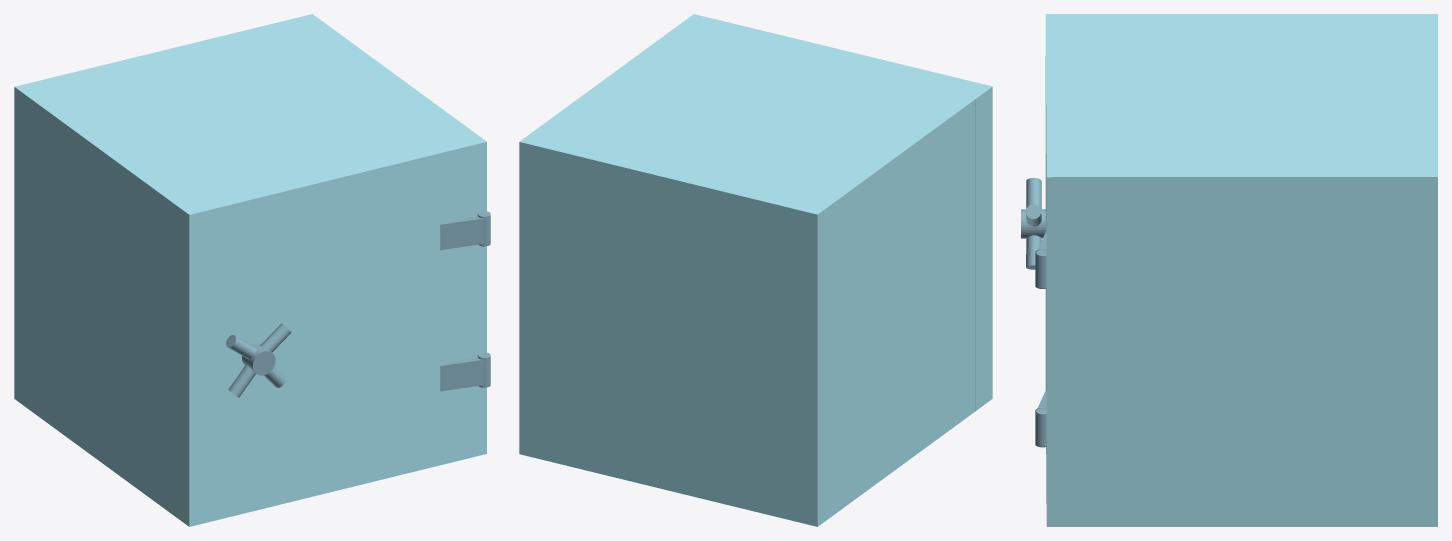
File: case4.fbx
3 renders of one model, left to right at view 1: azimuth 30°, elevation 25°; view 2: azimuth 150°, elevation 25°; view 3: azimuth 270°, elevation 25°, orthographic. The views are drawn at different scales.
Visible parts, largest first — view 1: Cube.001, Cube, Cylinder; view 2: Cube, Cube.001; view 3: Cube, Cube.001, Cylinder.
Part boxes in pixels (x1,y1,x2,y2): Cube.001: [172, 129, 490, 526]; Cube: [14, 14, 469, 513]; Cylinder: [226, 323, 291, 397]; Cube: [519, 26, 975, 526]; Cube.001: [678, 14, 992, 411]; Cube: [1083, 14, 1437, 526]; Cube.001: [1035, 14, 1083, 526]; Cylinder: [1021, 177, 1045, 269].
Size of the model in its own units: 201 by 200 by 216.
